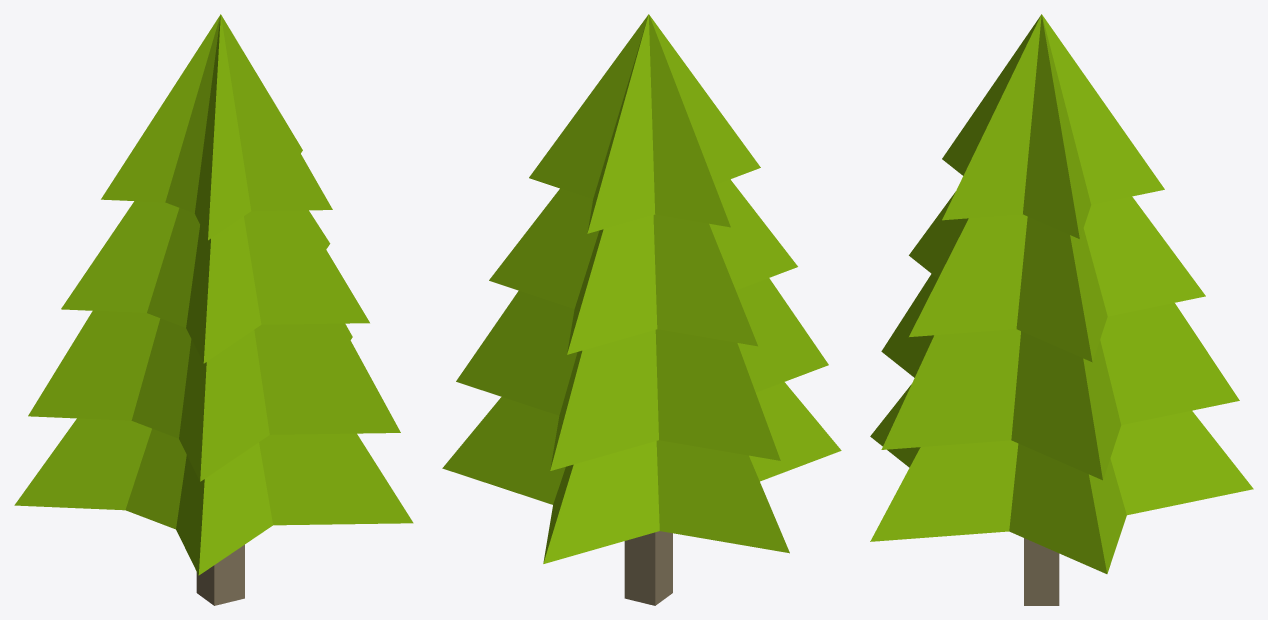
The model's file is tree_pine_star_3.fbx.
3 views of the same model, side by side, from view 1: azimuth 30°, elevation 25°; view 2: azimuth 150°, elevation 25°; view 3: azimuth 270°, elevation 25° (orthographic).
Parts seen in each view (by area): view 1: tree_pine_star_3; view 2: tree_pine_star_3; view 3: tree_pine_star_3.
Boxes of the visible parts, left/top/right/bottom form: tree_pine_star_3: left=14, top=14, right=413, bottom=605; tree_pine_star_3: left=442, top=14, right=841, bottom=605; tree_pine_star_3: left=870, top=14, right=1253, bottom=605.
Bounding box in the file's own units: 140 × 224 × 133.
